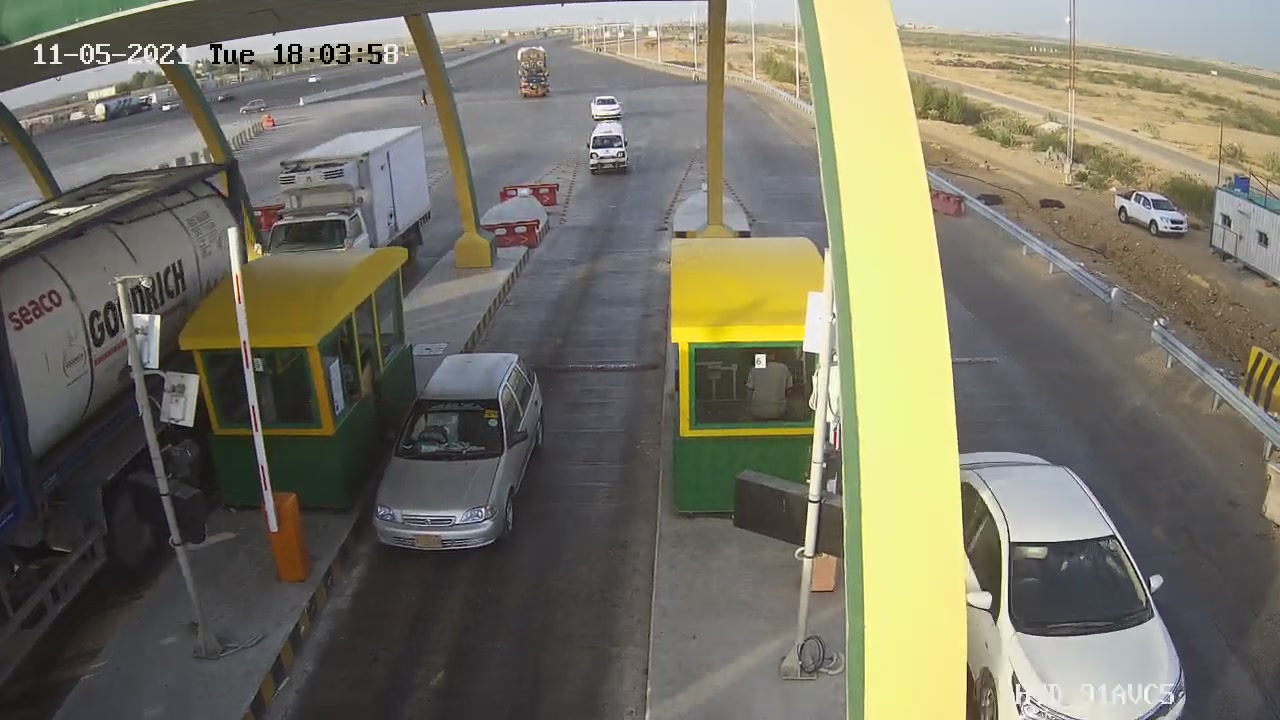F1: (356, 331, 572, 574)
